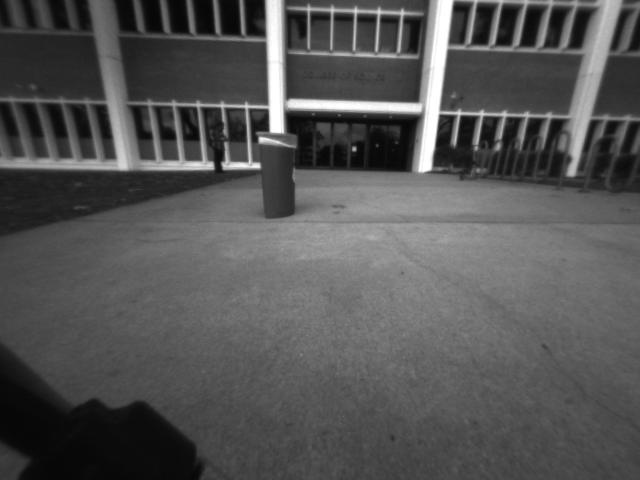trashcan_open: (253, 126, 302, 222)
